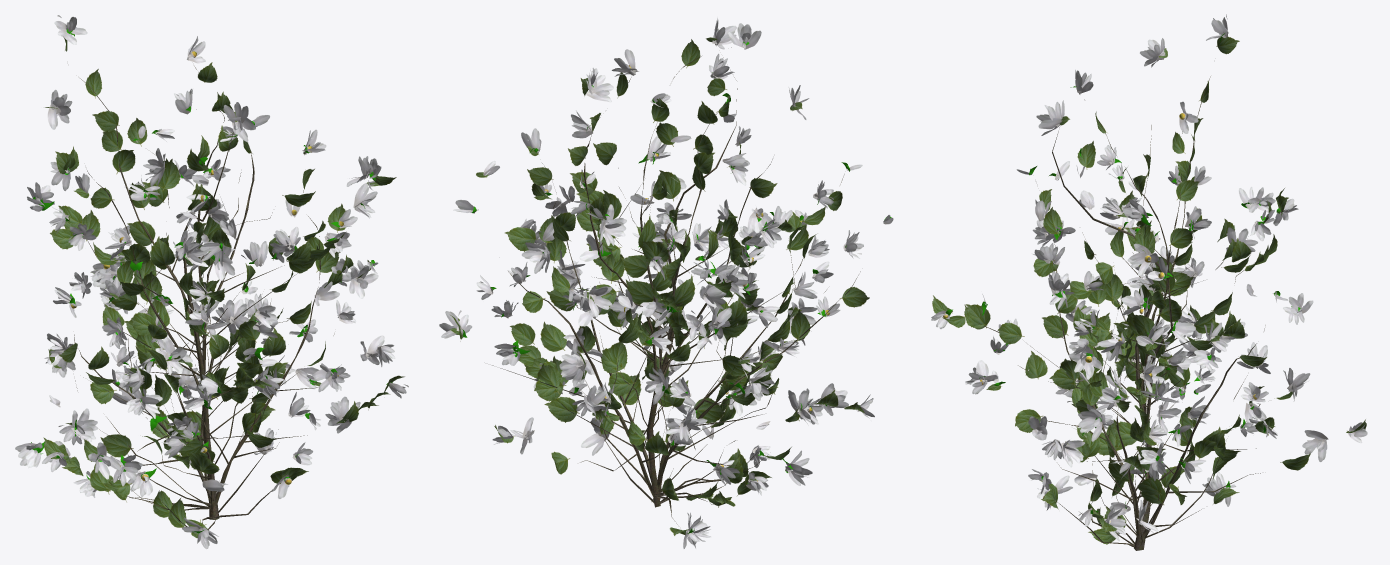
The model's file is oleander.glb.
The picture shows the model from 3 angles, left to right: view 1: azimuth 30°, elevation 25°; view 2: azimuth 150°, elevation 25°; view 3: azimuth 270°, elevation 25°; orthographic projection. The views are drawn at different scales.
Visible parts, largest first — view 1: bark_01_largeF_w; view 2: bark_01_largeF_w; view 3: bark_01_largeF_w.
Boxes of the visible parts, box(x1,y1,x2,y2) form: bark_01_largeF_w: box(15, 15, 408, 549); bark_01_largeF_w: box(439, 18, 893, 548); bark_01_largeF_w: box(931, 14, 1367, 550).
Size of the model in its own units: 1.48 by 1.93 by 1.61.
3 materials, 3 textured.
